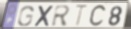8: (108, 6, 123, 27)
C: (87, 3, 107, 28)
G: (17, 5, 35, 27)
R: (51, 5, 72, 28)
T: (74, 5, 90, 29)
X: (34, 5, 55, 28)
